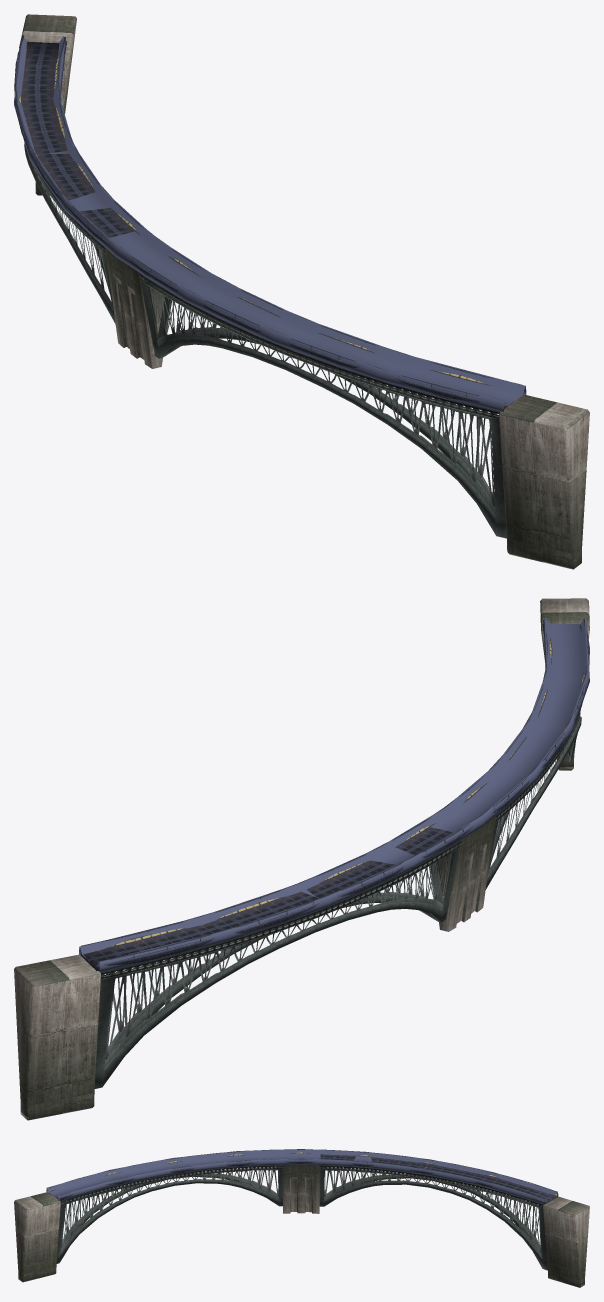
The model's file is Bridge_Curved.fbx.
3 views of the same model, one above another, from view 1: azimuth 30°, elevation 25°; view 2: azimuth 150°, elevation 25°; view 3: azimuth 270°, elevation 25° (orthographic). The views are drawn at different scales.
Visible parts, largest first — view 1: BridgeSupport.002, RoadbedCollMEsh.001, Cube.004, Roadbed.002, Cube.006, Cube.005; view 2: BridgeSupport.002, RoadbedCollMEsh.001, Cube.005, Roadbed.002, Cube.006, Cube.004; view 3: BridgeSupport.002, RoadbedCollMEsh.001, Cube.004, Cube.005, Roadbed.002, Cube.006.
Boxes of the visible parts, x1=… form: BridgeSupport.002: x1=23, y1=139, x2=506, y2=538; RoadbedCollMEsh.001: x1=14, y1=36, x2=526, y2=411; Cube.004: x1=499, y1=394, x2=589, y2=569; Roadbed.002: x1=14, y1=35, x2=519, y2=412; Cube.006: x1=105, y1=248, x2=164, y2=368; Cube.005: x1=19, y1=14, x2=76, y2=195; BridgeSupport.002: x1=94, y1=703, x2=582, y2=1088; RoadbedCollMEsh.001: x1=79, y1=617, x2=589, y2=971; Cube.005: x1=14, y1=954, x2=100, y2=1120; Roadbed.002: x1=80, y1=619, x2=589, y2=972; Cube.006: x1=438, y1=816, x2=495, y2=931; Cube.004: x1=540, y1=598, x2=589, y2=770; BridgeSupport.002: x1=56, y1=1165, x2=547, y2=1270; RoadbedCollMEsh.001: x1=46, y1=1149, x2=557, y2=1204; Cube.004: x1=14, y1=1192, x2=60, y2=1282; Cube.005: x1=543, y1=1196, x2=589, y2=1287; Roadbed.002: x1=49, y1=1149, x2=558, y2=1204; Cube.006: x1=283, y1=1164, x2=319, y2=1213.
Size of the model in its own units: 660 by 468 by 2842.
